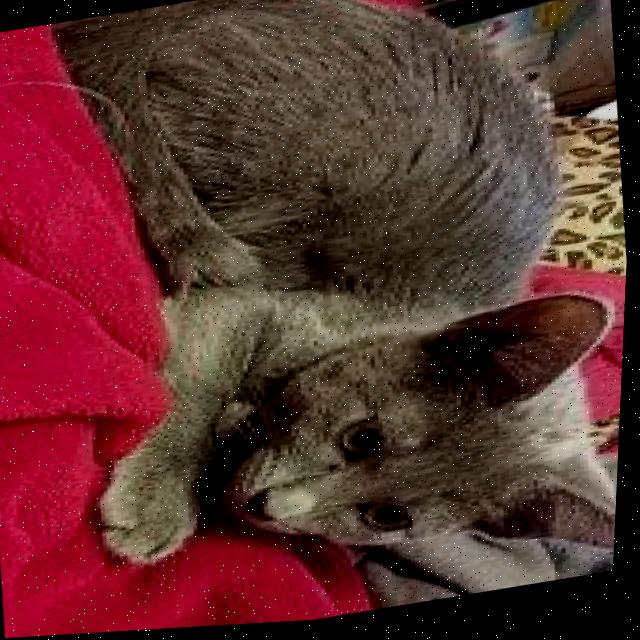Russian Blue: (25, 0, 640, 638)
